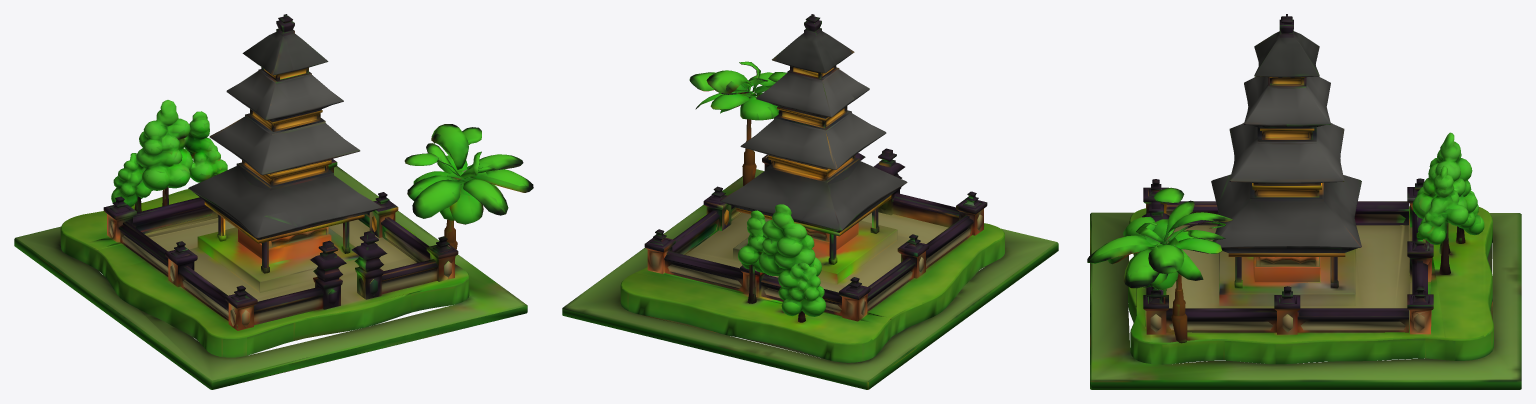
File: pura_1.glb
3 views of the same model, side by side, from view 1: azimuth 30°, elevation 25°; view 2: azimuth 150°, elevation 25°; view 3: azimuth 270°, elevation 25° (orthographic). The views are drawn at different scales.
Visible parts, largest first — view 1: tripo_node_0cf8fe97; view 2: tripo_node_0cf8fe97; view 3: tripo_node_0cf8fe97.
Part boxes in pixels (x1,y1,x2,y2): tripo_node_0cf8fe97: (14,14,533,389); tripo_node_0cf8fe97: (562,14,1058,389); tripo_node_0cf8fe97: (1087,14,1521,389).
Size of the model in its own units: 1 by 0.7451 by 0.9974.
1 material, 1 textured.
